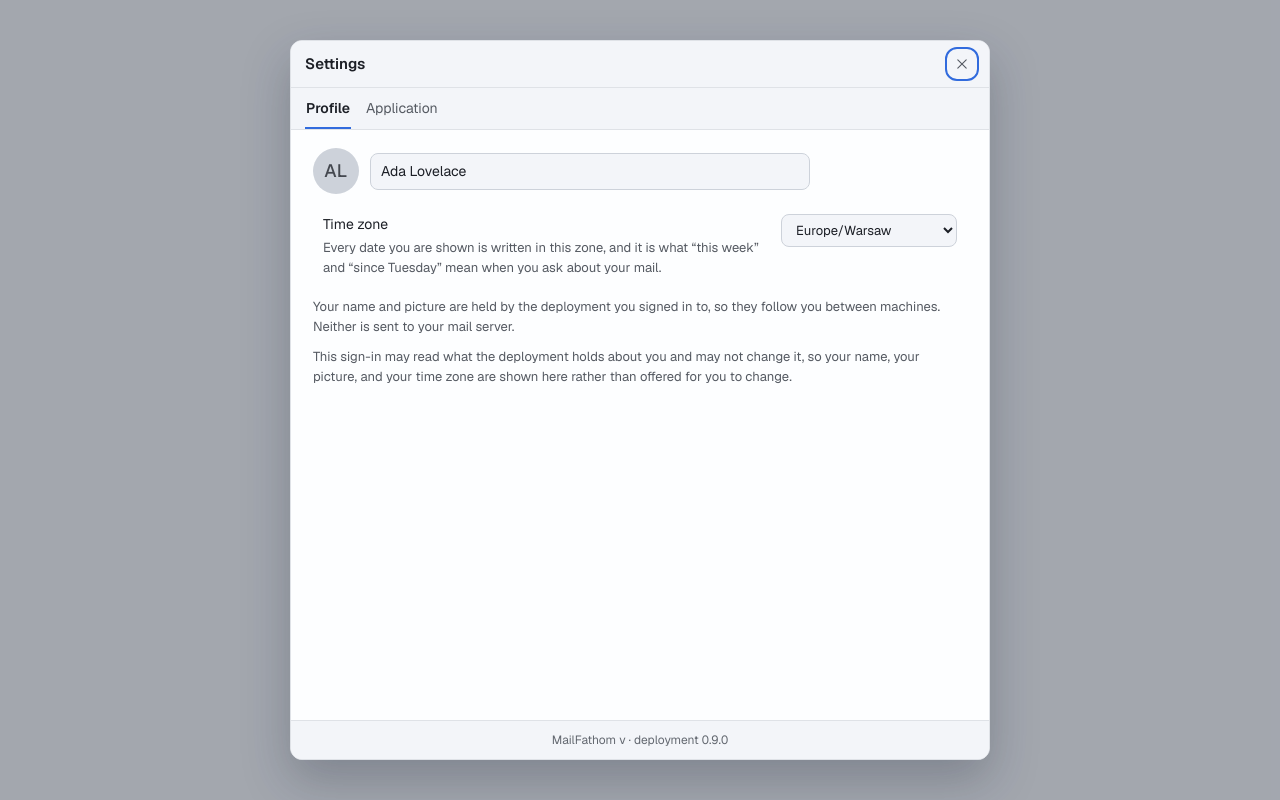
Test: Settings › withdraws the settings that follow the person and keeps the language, where this credential may not change them
Click the tab "Application" at (402,108), box [365,88,439,129]
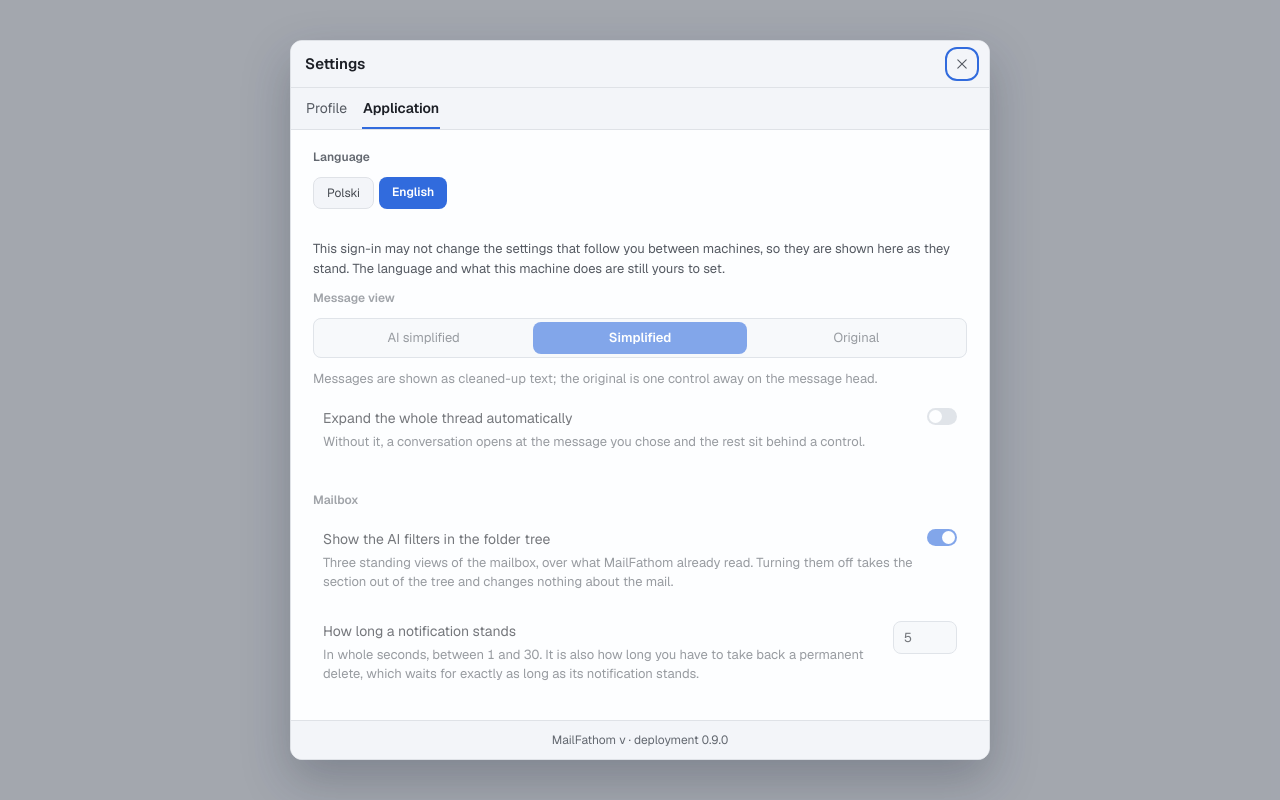
Now the text "may not change the settings that follow you" is shown, box [313,240,950,276]
